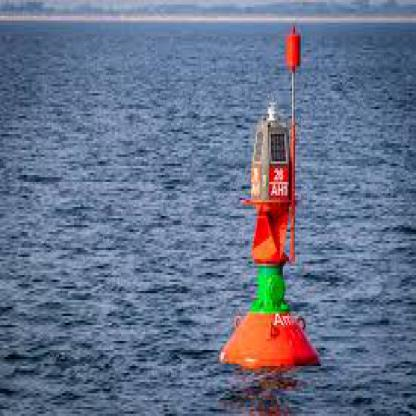buoy: (206, 27, 316, 378)
